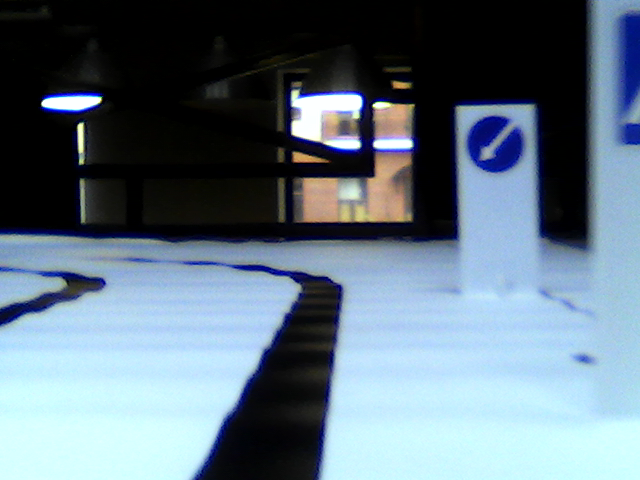prep: (466, 116, 524, 171)
